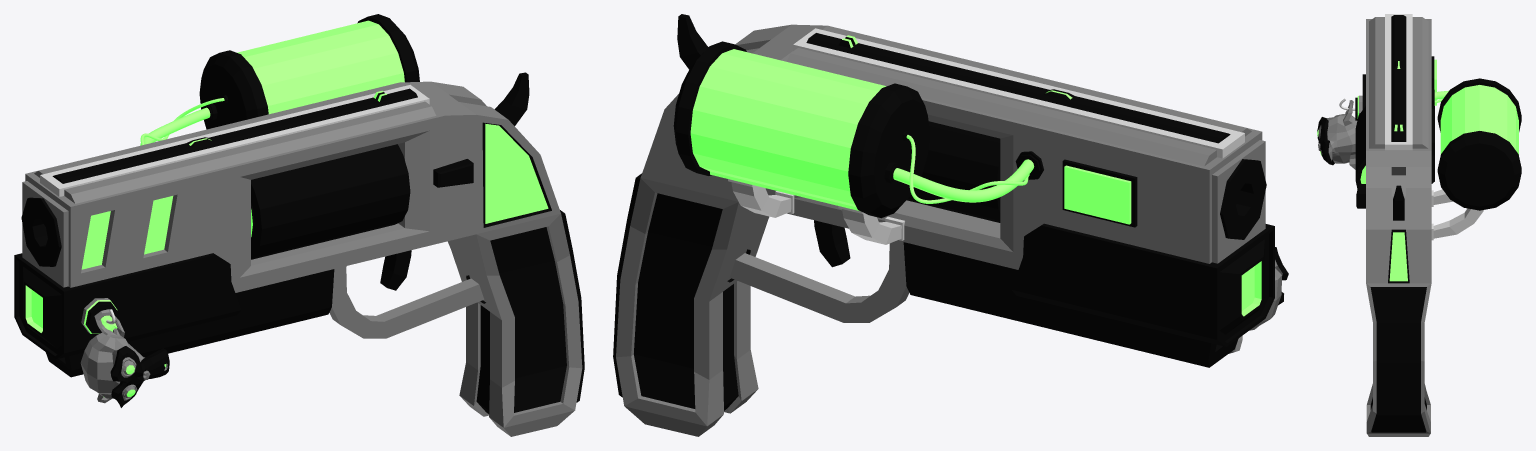
The model's file is Revolver.fbx.
The picture shows the model from 3 angles, left to right: view 1: azimuth 30°, elevation 25°; view 2: azimuth 150°, elevation 25°; view 3: azimuth 270°, elevation 25°; orthographic projection. The views are drawn at different scales.
Parts seen in each view (by area): view 1: Cube, Cylinder, Cube.003, Cylinder.001, Cube.002, Suzanne, Cube.005, Cube.004, Cylinder.004, Cube.009, Cube.010, Cube.001 (+2 smaller); view 2: Cube, Cylinder, Cube.003, Cube.002, Cube.005, Cube.004, Cylinder.001, Cylinder.004, Cube.006, NurbsPath, Cube.001, Cube.009 (+2 smaller); view 3: Cube, Cylinder, Cube.004, Suzanne, Cube.006, Cylinder.001, Cube.003, Cube.009, Cube.010.
Boxes of the visible parts, x1=… form: Cube: x1=22, y1=81, x2=584, y2=436; Cylinder: x1=199, y1=14, x2=419, y2=129; Cube.003: x1=14, y1=253, x2=240, y2=359; Cylinder.001: x1=251, y1=144, x2=410, y2=259; Cube.002: x1=45, y1=269, x2=334, y2=377; Suzanne: x1=80, y1=309, x2=169, y2=407; Cube.005: x1=329, y1=266, x2=485, y2=338; Cube.004: x1=40, y1=84, x2=429, y2=196; Cylinder.004: x1=21, y1=197, x2=61, y2=266; Cube.009: x1=494, y1=72, x2=529, y2=126; Cube.010: x1=433, y1=159, x2=473, y2=187; Cube.001: x1=380, y1=250, x2=411, y2=290; Cube: x1=613, y1=24, x2=1265, y2=436; Cylinder: x1=673, y1=41, x2=929, y2=218; Cube.003: x1=1011, y1=223, x2=1274, y2=346; Cube.002: x1=903, y1=242, x2=1238, y2=367; Cube.005: x1=727, y1=240, x2=909, y2=322; Cube.004: x1=793, y1=28, x2=1244, y2=158; Cylinder.001: x1=907, y1=121, x2=1000, y2=222; Cylinder.004: x1=1220, y1=159, x2=1266, y2=239; Cube.006: x1=731, y1=182, x2=901, y2=244; NurbsPath: x1=893, y1=159, x2=1034, y2=202; Cube.001: x1=814, y1=220, x2=850, y2=267; Cube.009: x1=677, y1=14, x2=708, y2=69; Cube: x1=1366, y1=15, x2=1436, y2=436; Cylinder: x1=1437, y1=78, x2=1521, y2=210; Cube.004: x1=1385, y1=14, x2=1412, y2=150; Suzanne: x1=1317, y1=100, x2=1357, y2=169; Cube.006: x1=1433, y1=189, x2=1483, y2=238; Cylinder.001: x1=1355, y1=106, x2=1365, y2=188; Cube.003: x1=1362, y1=74, x2=1434, y2=183; Cube.009: x1=1393, y1=185, x2=1404, y2=220; Cube.010: x1=1356, y1=184, x2=1365, y2=208.
Size of the model in its own units: 1519 by 1014 by 696.
